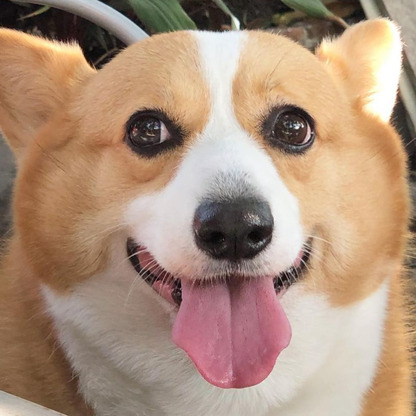Corgi: (28, 39, 411, 404)
